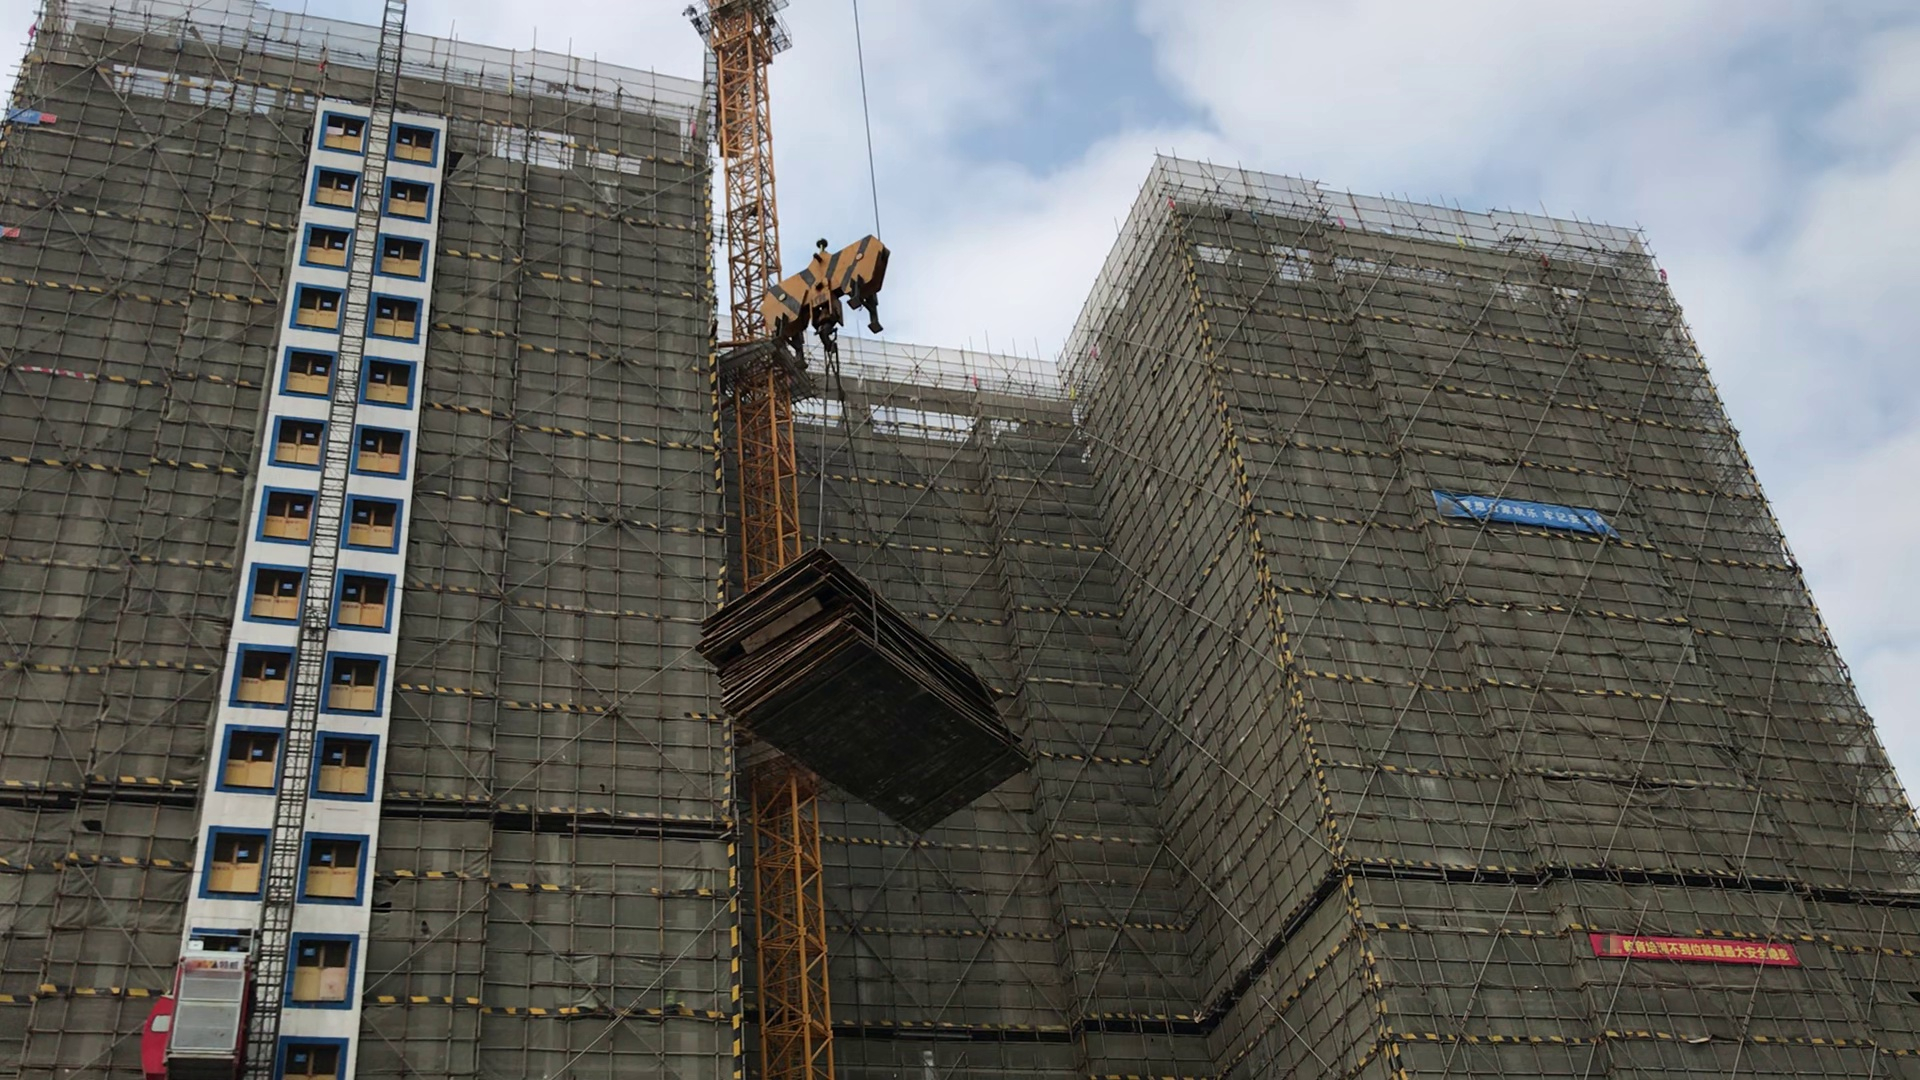board: (692, 545, 1039, 843)
hook: (749, 235, 891, 352)
slogan: (1432, 487, 1615, 538), (1586, 924, 1795, 967)
